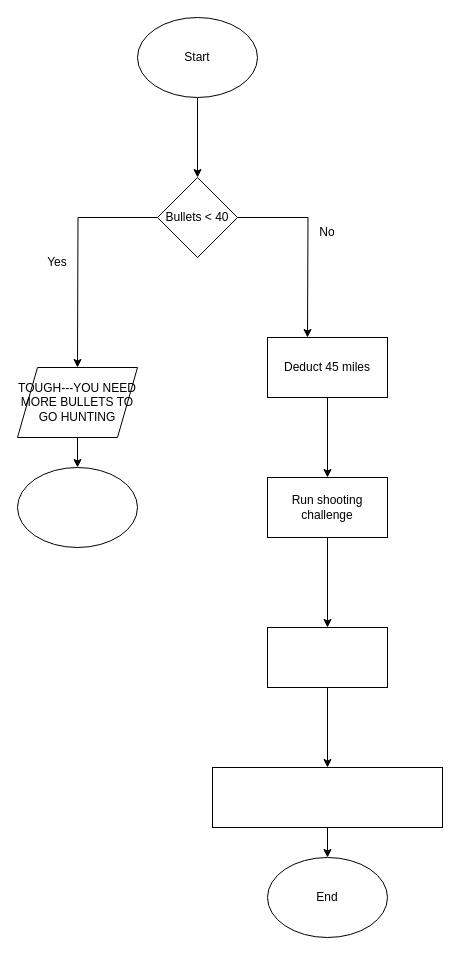
The diagram is 460 pixels wide and 955 high, and some of its shapes have lost their labels. Here are the shapes that lost their labels. From the top down, the centre of each, then its label:
At (x=77, y=507): "Return to turn_menu".
At (x=327, y=657): "response_score = challenge response".
At (x=327, y=797): "Call resolve_hunt_outcome(response_score)".
